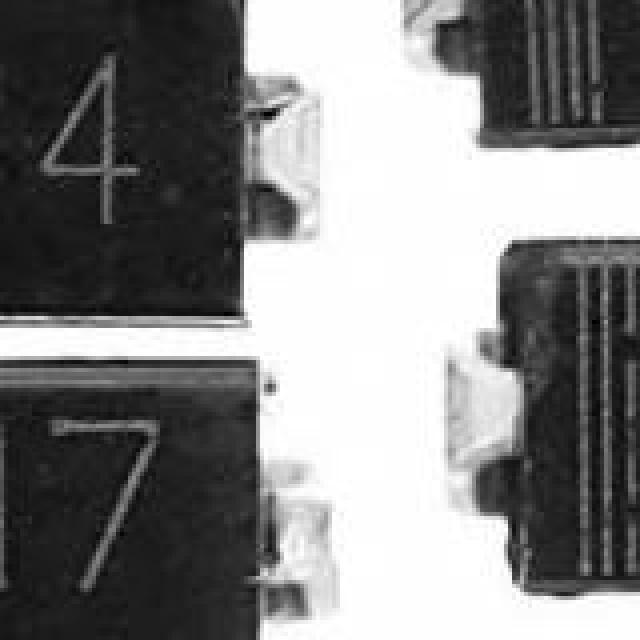diode: (0, 0, 276, 312), (0, 352, 280, 640), (476, 220, 640, 612), (448, 0, 640, 144)
